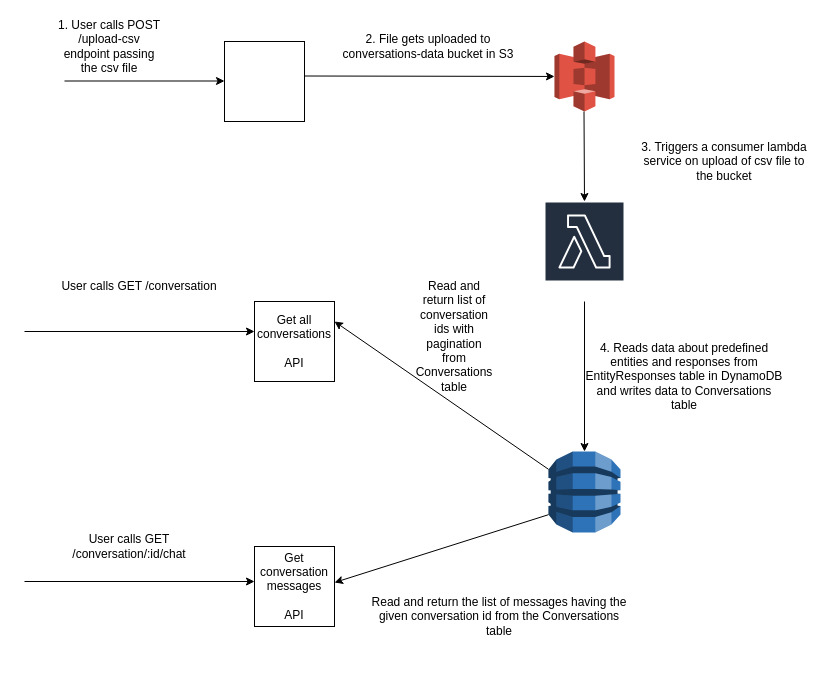
Image size: 832x688. Some labels were removed from this diagram. The shapes that lost their labels are listed below. From the top down, each one's box as (x1, y1, x2, y2) in pixels, then its label:
(224, 40, 304, 122): Upload API
(544, 200, 624, 302): AWS Lambda
